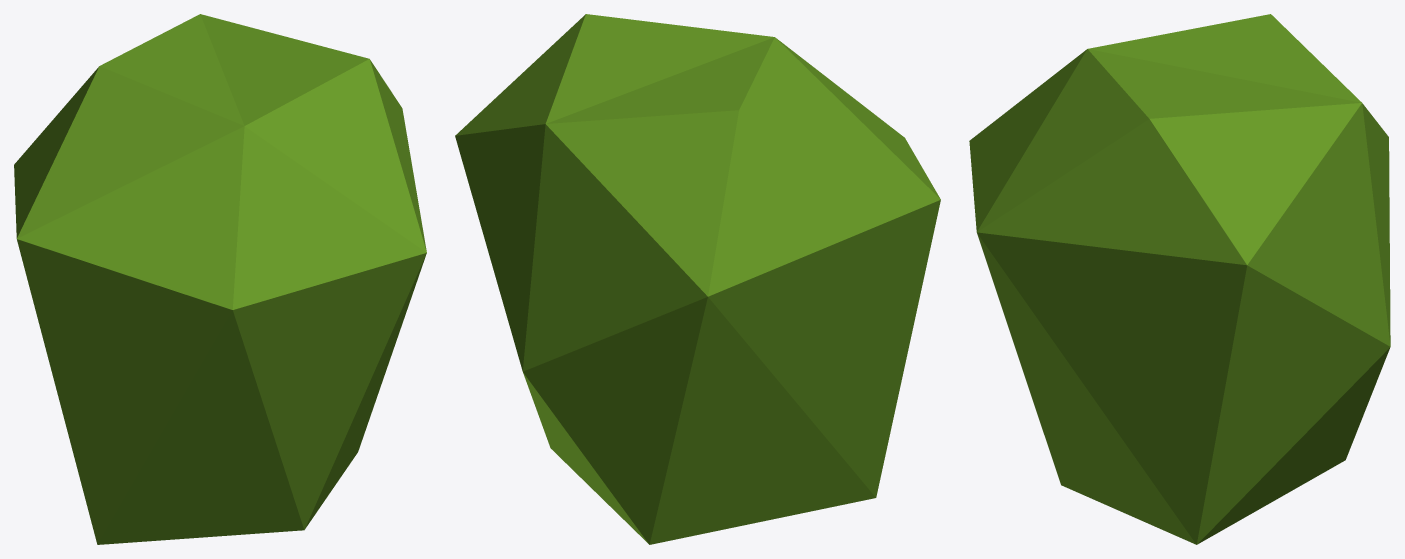
The model's file is bush_small_2.fbx.
The picture shows the model from 3 angles, left to right: view 1: azimuth 30°, elevation 25°; view 2: azimuth 150°, elevation 25°; view 3: azimuth 270°, elevation 25°; orthographic projection.
Parts seen in each view (by area): view 1: bush_small_2; view 2: bush_small_2; view 3: bush_small_2.
Part boxes in pixels (x1=…): bush_small_2: x1=14, y1=14, x2=426, y2=544; bush_small_2: x1=455, y1=14, x2=940, y2=544; bush_small_2: x1=969, y1=14, x2=1390, y2=544.
Bounding box in the file's own units: 203 × 186 × 169.
